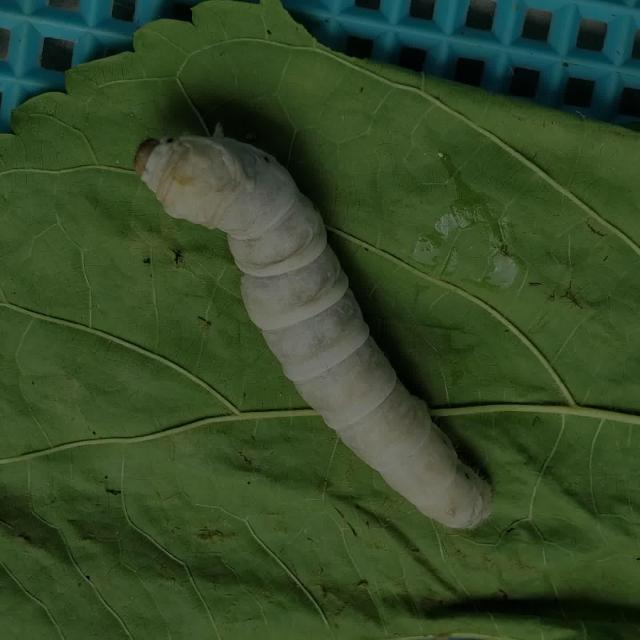Grasserie: (107, 82, 527, 539)
